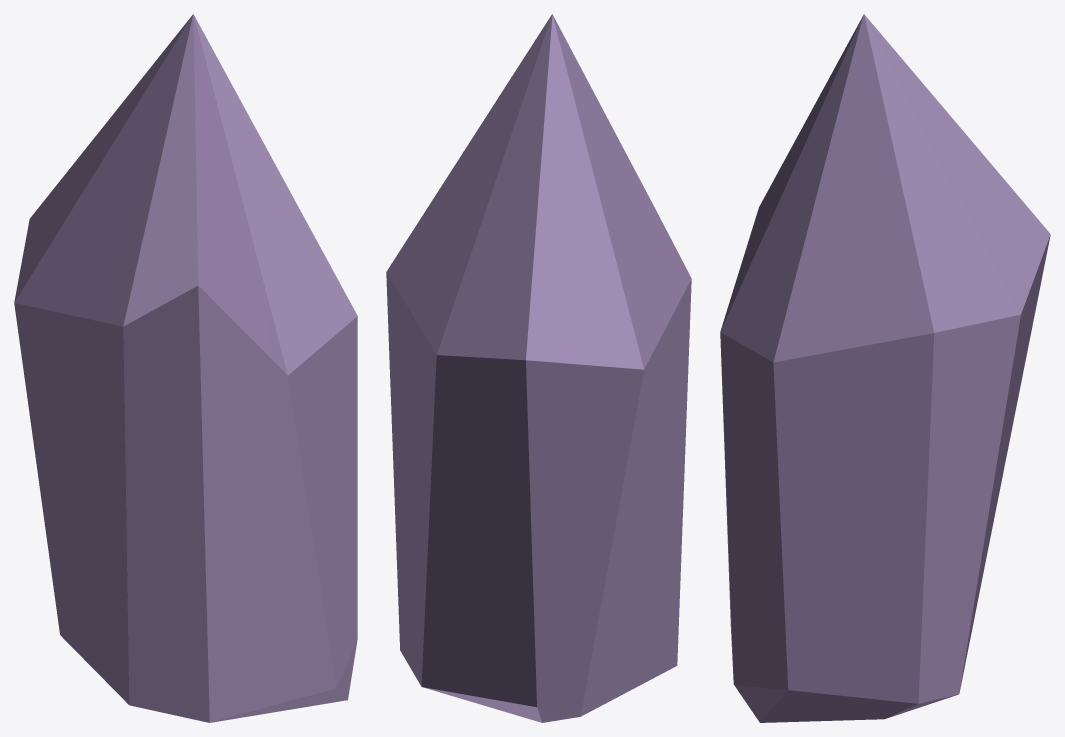
File: purple_crystal.glb
3 renders of one model, left to right at view 1: azimuth 30°, elevation 25°; view 2: azimuth 150°, elevation 25°; view 3: azimuth 270°, elevation 25°, orthographic. The views are drawn at different scales.
Parts seen in each view (by area): view 1: pCube1; view 2: pCube1; view 3: pCube1.
Part boxes in pixels (x1,y1,x2,y2): pCube1: (14, 14, 357, 722); pCube1: (386, 14, 691, 722); pCube1: (720, 14, 1050, 722).
Bounding box in the file's own units: 0.0214 × 0.0524 × 0.0236.
